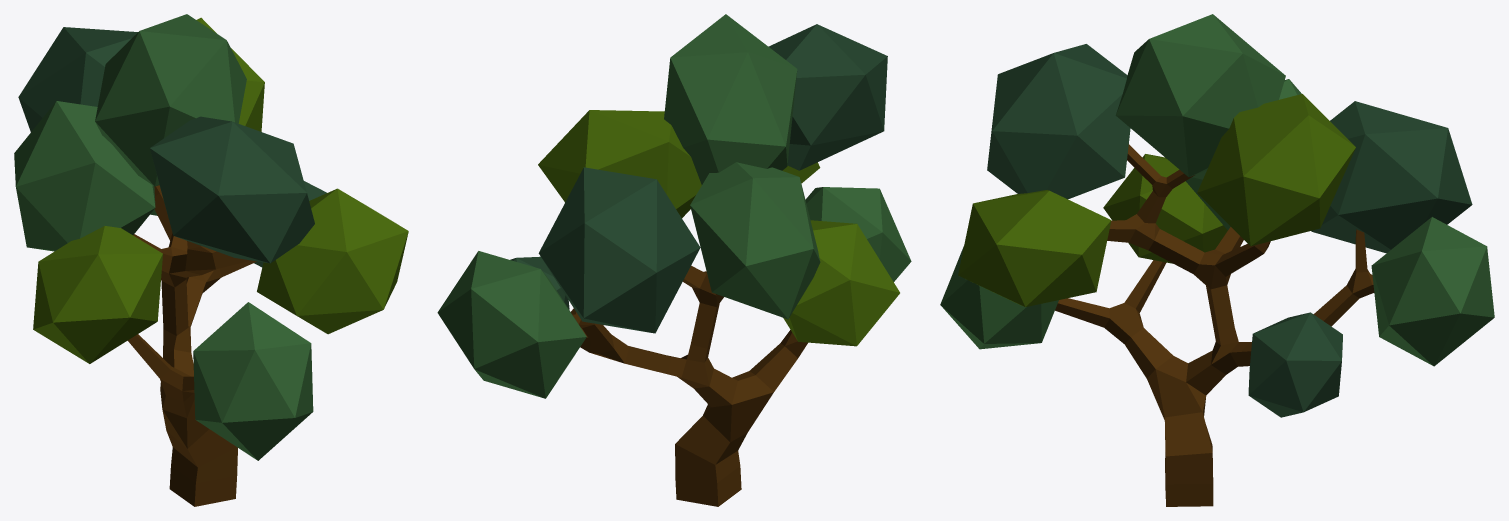
File: tree1_cityedit-D7pFfq3h.glb
3 views of the same model, side by side, from view 1: azimuth 30°, elevation 25°; view 2: azimuth 150°, elevation 25°; view 3: azimuth 270°, elevation 25° (orthographic). The views are drawn at different scales.
Parts seen in each view (by area): view 1: Icosphere.003, Icosphere, Icosphere.005, Icosphere.008, Cube, Icosphere.002, Icosphere.009, Icosphere.001, Icosphere.004; view 2: Icosphere.001, Icosphere, Icosphere.005, Cube, Icosphere.006, Icosphere.003, Icosphere.004, Icosphere.009, Icosphere.008, Icosphere.007; view 3: Cube, Icosphere.003, Icosphere, Icosphere.004, Icosphere.001, Icosphere.002, Icosphere.006, Icosphere.007, Icosphere.008, Icosphere.009, Icosphere.005.
Part boxes in pixels (x1=…): Icosphere.003: x1=150, y1=116, x2=314, y2=263; Icosphere: x1=95, y1=14, x2=246, y2=186; Icosphere.005: x1=14, y1=101, x2=155, y2=251; Icosphere.008: x1=193, y1=302, x2=313, y2=460; Cube: x1=127, y1=185, x2=256, y2=506; Icosphere.002: x1=257, y1=188, x2=408, y2=334; Icosphere.009: x1=33, y1=226, x2=162, y2=363; Icosphere.001: x1=18, y1=27, x2=137, y2=131; Icosphere.004: x1=196, y1=17, x2=264, y2=131; Icosphere.001: x1=538, y1=167, x2=700, y2=333; Icosphere: x1=664, y1=14, x2=797, y2=184; Icosphere.005: x1=690, y1=162, x2=820, y2=319; Cube: x1=571, y1=265, x2=807, y2=506; Icosphere.006: x1=437, y1=251, x2=586, y2=398; Icosphere.003: x1=768, y1=24, x2=887, y2=170; Icosphere.004: x1=538, y1=110, x2=701, y2=217; Icosphere.009: x1=783, y1=220, x2=899, y2=346; Icosphere.008: x1=805, y1=187, x2=911, y2=281; Icosphere.007: x1=510, y1=256, x2=569, y2=309; Cube: x1=1055, y1=144, x2=1374, y2=506; Icosphere.003: x1=987, y1=44, x2=1130, y2=199; Icosphere: x1=1115, y1=14, x2=1285, y2=177; Icosphere.004: x1=1197, y1=94, x2=1355, y2=246; Icosphere.001: x1=1311, y1=101, x2=1472, y2=253; Icosphere.002: x1=958, y1=190, x2=1111, y2=306; Icosphere.006: x1=1371, y1=217, x2=1494, y2=366; Icosphere.007: x1=1248, y1=312, x2=1342, y2=417; Icosphere.008: x1=940, y1=246, x2=1058, y2=349; Icosphere.009: x1=1103, y1=154, x2=1227, y2=263; Icosphere.005: x1=1185, y1=79, x2=1301, y2=229.
Bounding box in the file's own units: 6.85 × 8.89 × 9.73.
